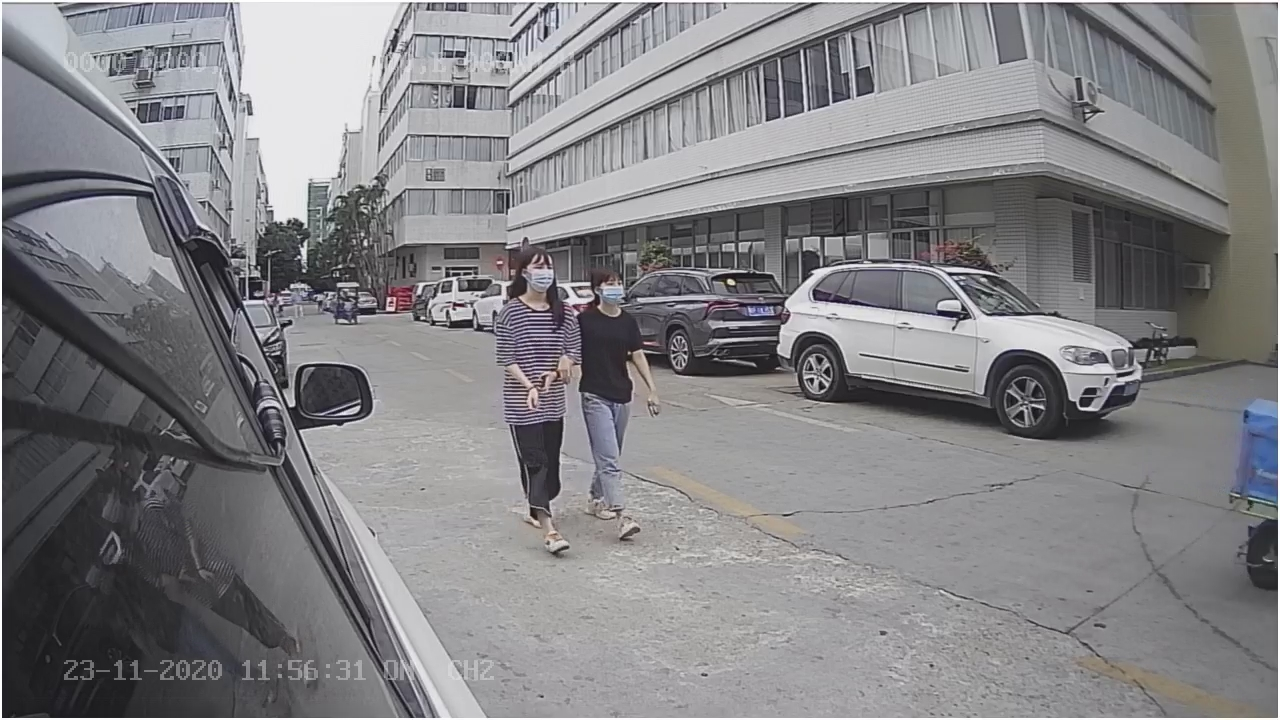person: (491, 244, 579, 562), (568, 265, 652, 546)
